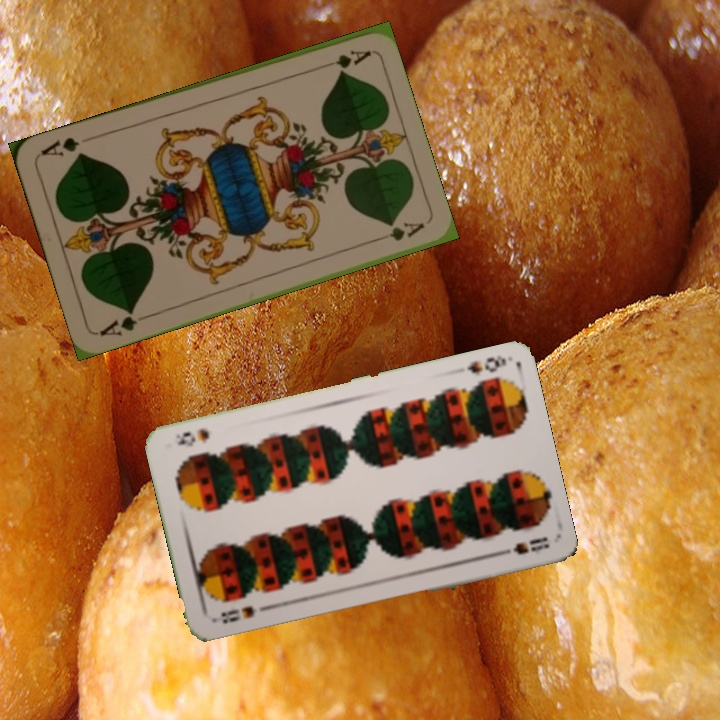GA: (314, 46, 373, 72), (95, 306, 140, 339)
S8: (462, 351, 509, 377), (210, 602, 258, 626)
